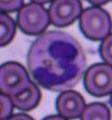N: (26, 31, 86, 91)
